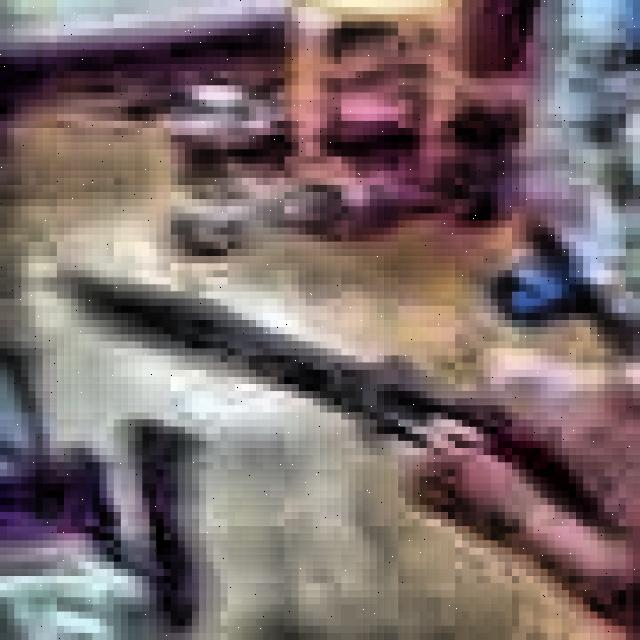knife: (75, 274, 580, 490)
